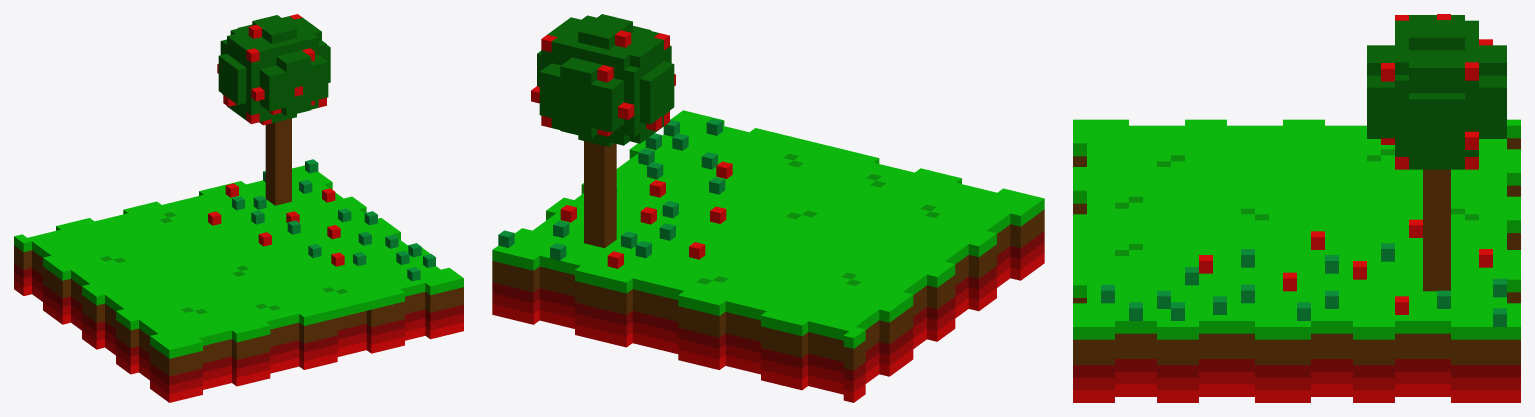
The model's file is escenario.glb.
The picture shows the model from 3 angles, left to right: view 1: azimuth 30°, elevation 25°; view 2: azimuth 150°, elevation 25°; view 3: azimuth 270°, elevation 25°; orthographic projection. The views are drawn at different scales.
Visible parts, largest first — view 1: o; view 2: o; view 3: o.
Part boxes in pixels (left/top/right/bottom): o: left=14, top=14, right=463, bottom=402; o: left=492, top=14, right=1044, bottom=402; o: left=1073, top=14, right=1520, bottom=402.
Size of the model in its own units: 3.5 by 2.6 by 3.2.
1 material, 1 textured.
